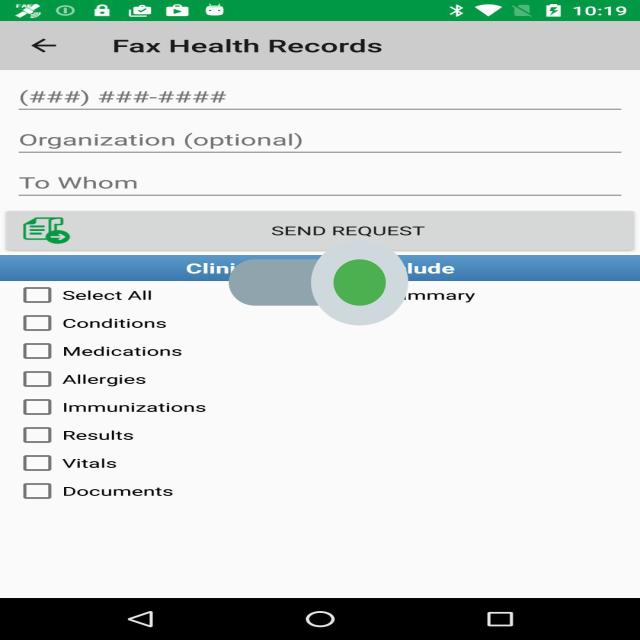social proof: (229, 203, 408, 362)
